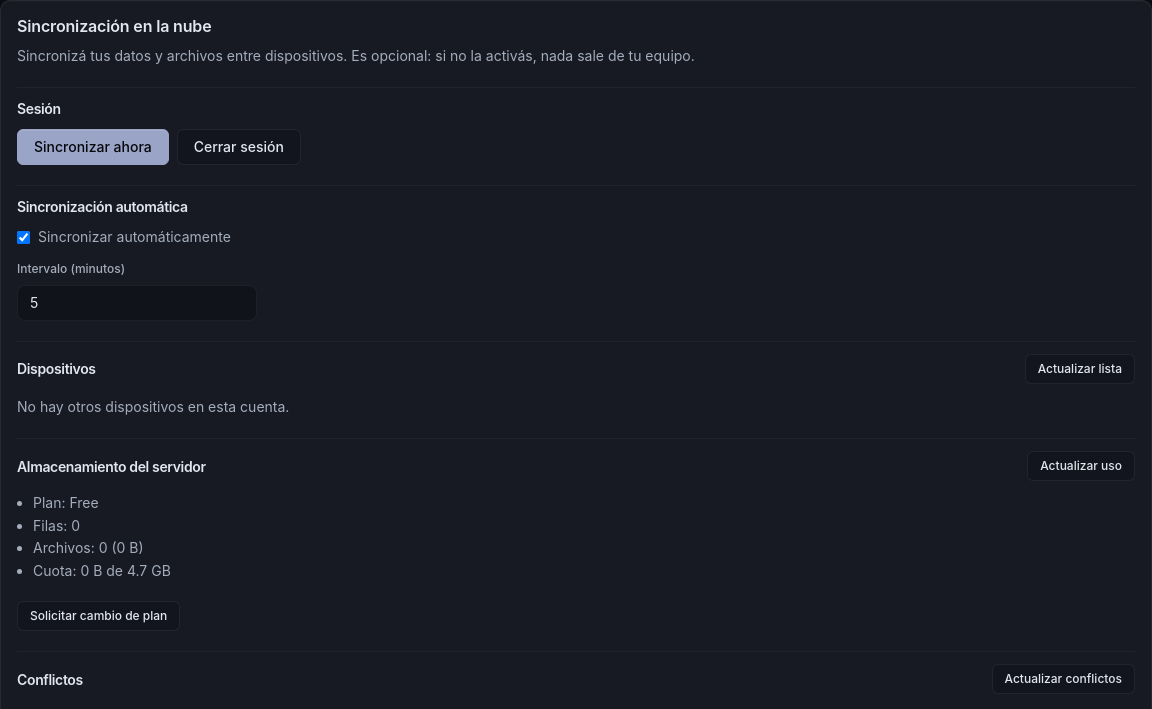
Test: SyncSettingsCard — plan change request › submits a plan change request with the selected plan id (camelCase wire arg)
Click the button "Solicitar cambio de plan".
click(99, 616)  # box [17,601,180,631]
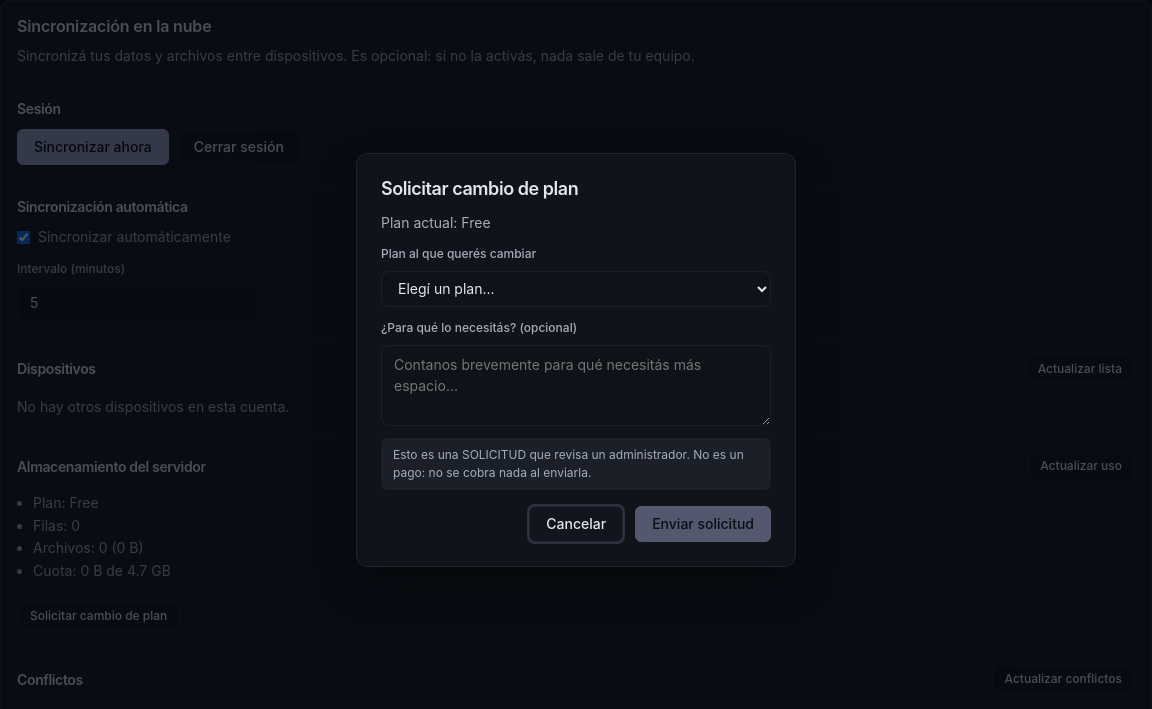
Select "5 GB · 4.7 GB" in the dropdown labelled "Plan al que querés cambiar" at (576, 289), box [381,271,771,307]
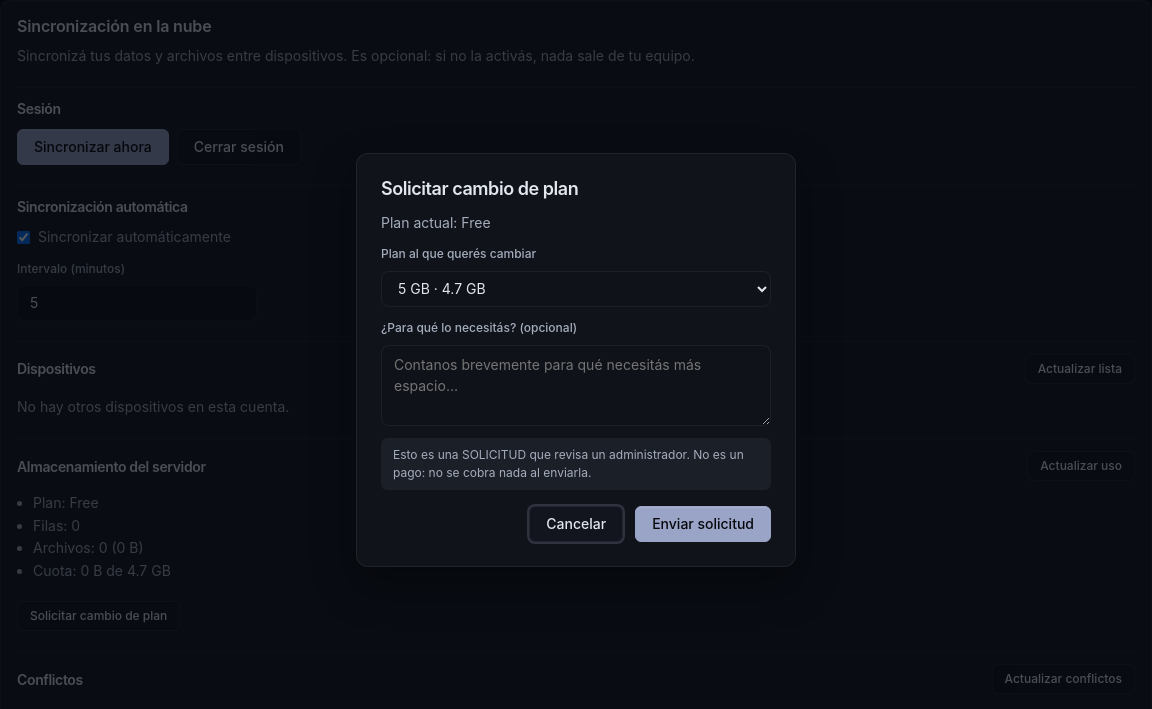
Click the button "Enviar solicitud".
click(703, 524)  # box [635,506,771,542]
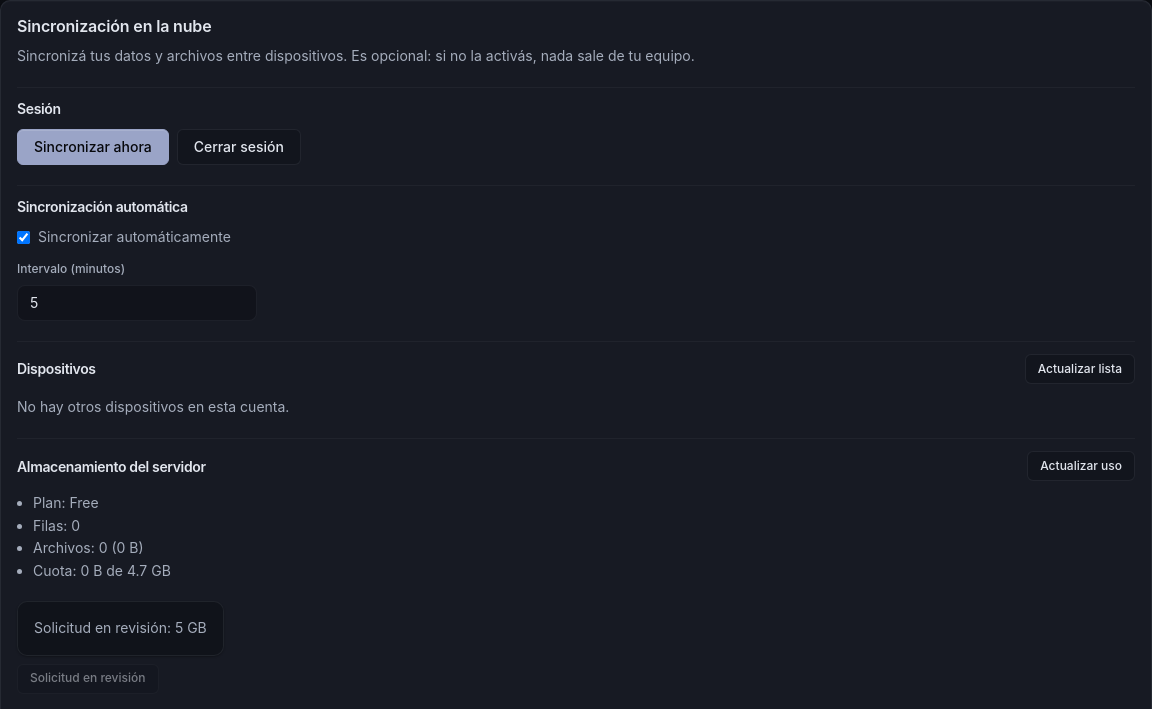
Now the text "Solicitud en revisión: 5 GB" is shown, box [17,601,224,656]
